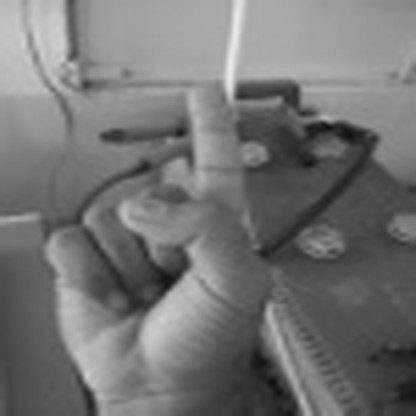d: (39, 70, 265, 414)
